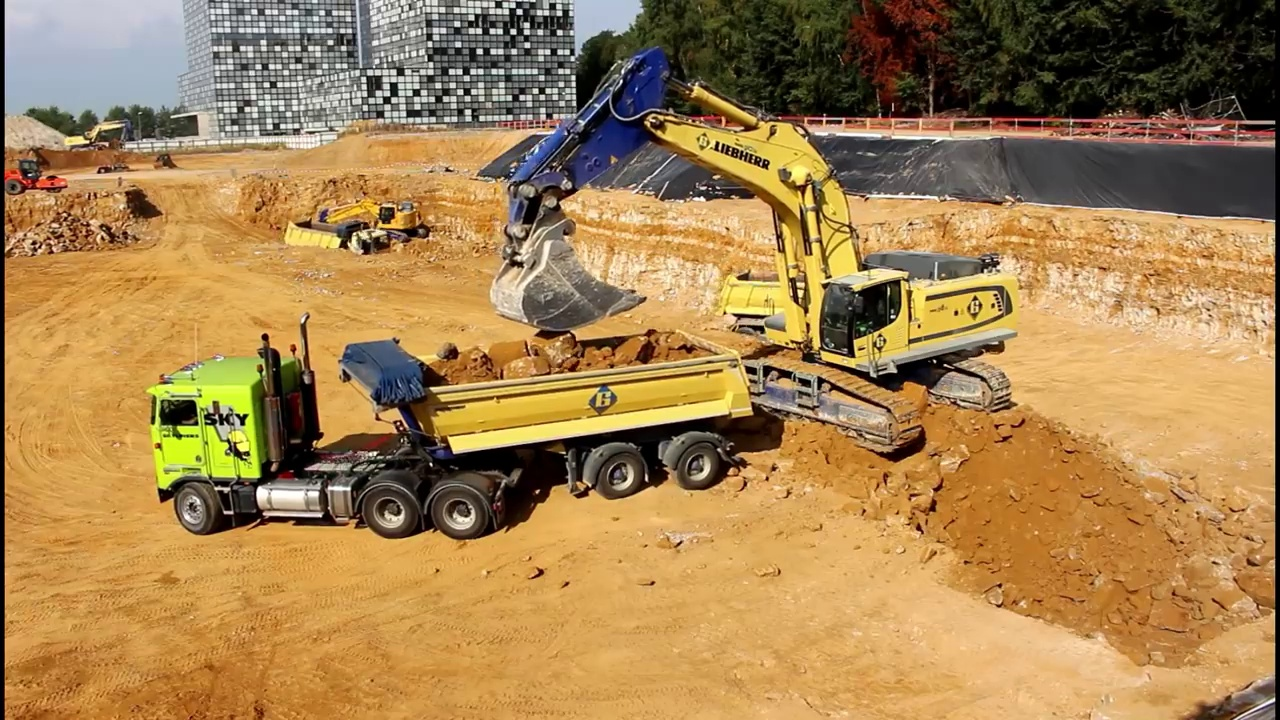compactor: (5, 159, 70, 198)
excavator: (484, 41, 1028, 459), (304, 195, 433, 250), (61, 116, 135, 161)
truck: (140, 307, 761, 541), (706, 267, 987, 379), (281, 217, 391, 272)
